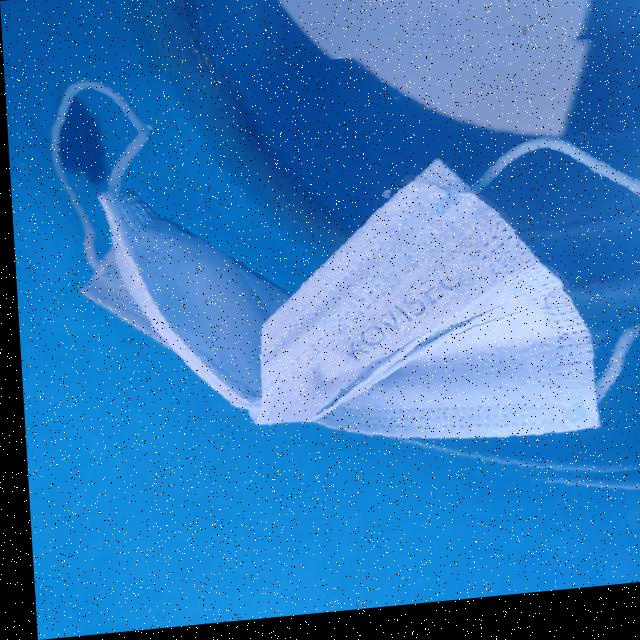litter: (4, 42, 640, 545)
